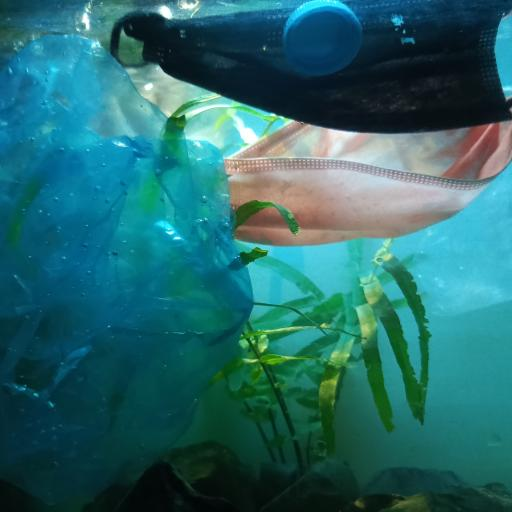bottle_cap: (277, 2, 363, 80), (110, 17, 174, 64)
mask: (108, 4, 512, 137), (221, 117, 512, 247)
plastic_bag: (0, 26, 256, 512), (420, 222, 512, 324), (2, 0, 86, 35)
